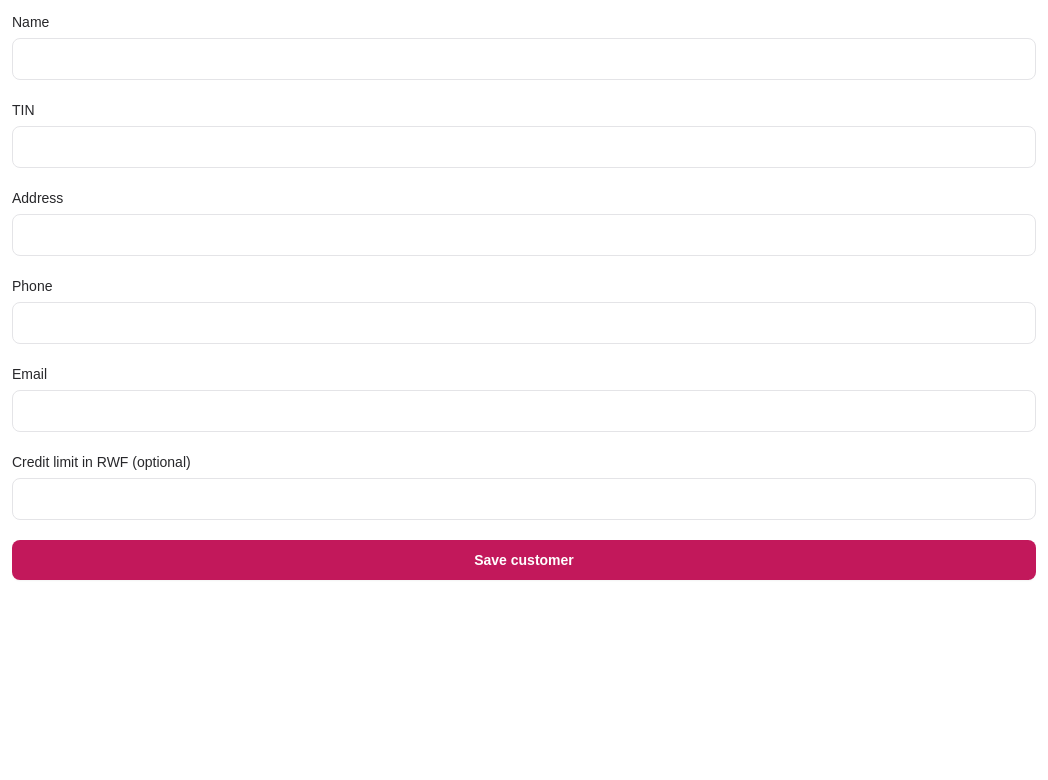
Test: CustomerForm › requires a name
Click the button "Save customer". click: (524,560)
box: 12,540 -> 1036,580
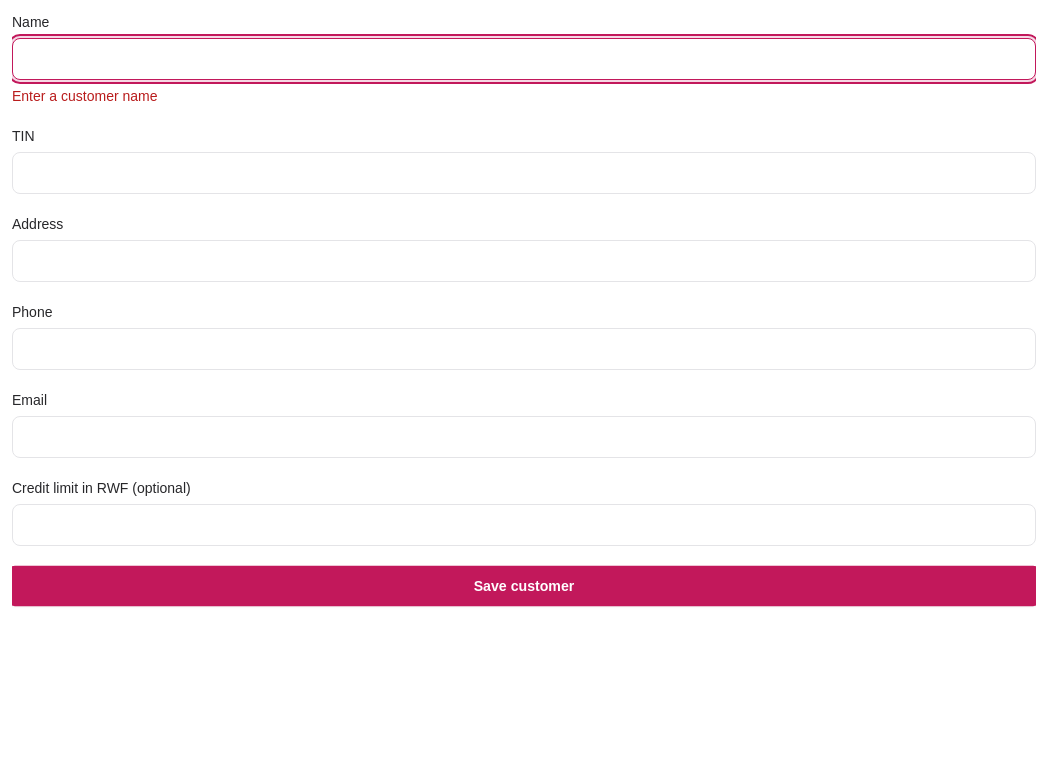
Expected: the text "Enter a customer name" is shown, 12,88 -> 158,104
